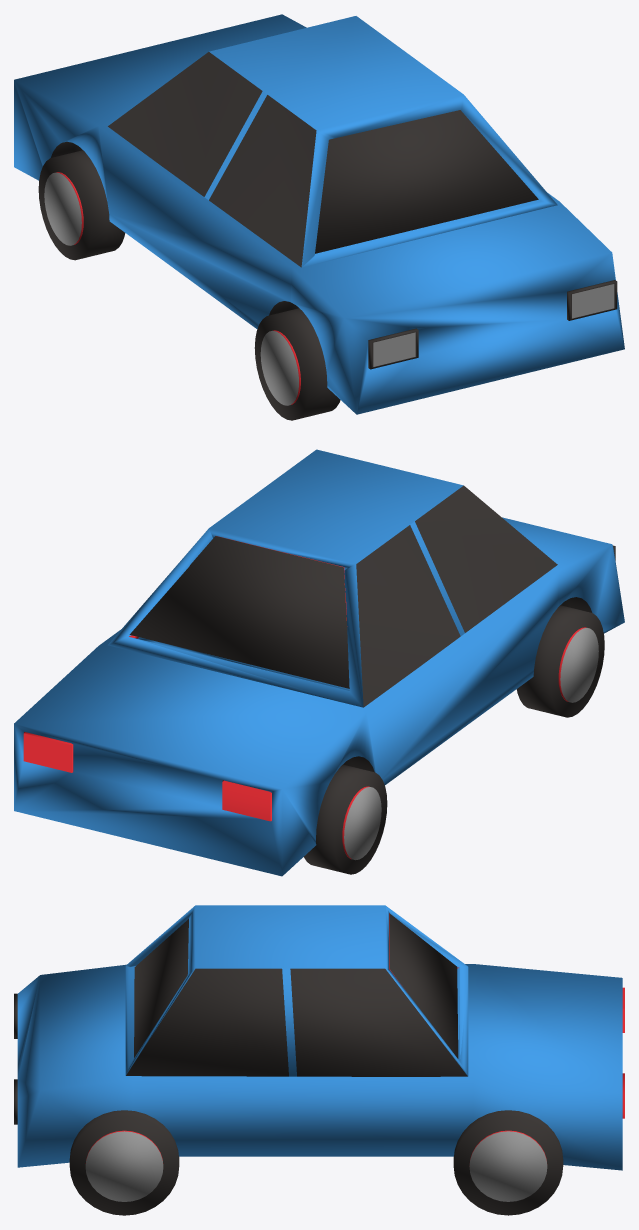
File: BlueCar.fbx
3 renders of one model, top to bottom at view 1: azimuth 30°, elevation 25°; view 2: azimuth 150°, elevation 25°; view 3: azimuth 270°, elevation 25°, orthographic. The views are drawn at different scales.
Visible parts, largest first — view 1: Cubo; view 2: Cubo; view 3: Cubo.
Part boxes in pixels (<box>): Cubo: <box>14,14,624,420</box>; Cubo: <box>14,449,624,876</box>; Cubo: <box>14,905,624,1215</box>.
Size of the model in its own units: 940 by 729 by 1879.
